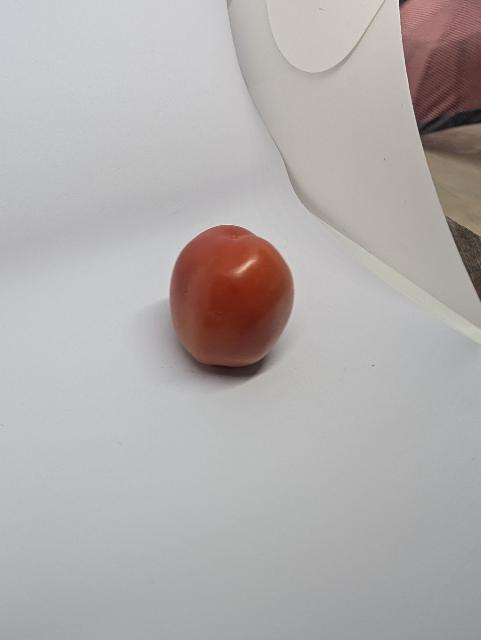red: (158, 218, 317, 391)
